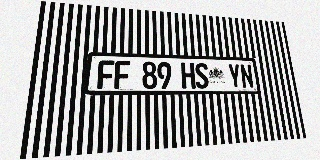8: (142, 61, 157, 89)
9: (157, 62, 172, 89)
F: (97, 60, 114, 89), (114, 61, 130, 89)
H: (181, 62, 196, 89)
N: (239, 64, 254, 88)
S: (194, 63, 209, 89)
Y: (227, 64, 242, 89)
